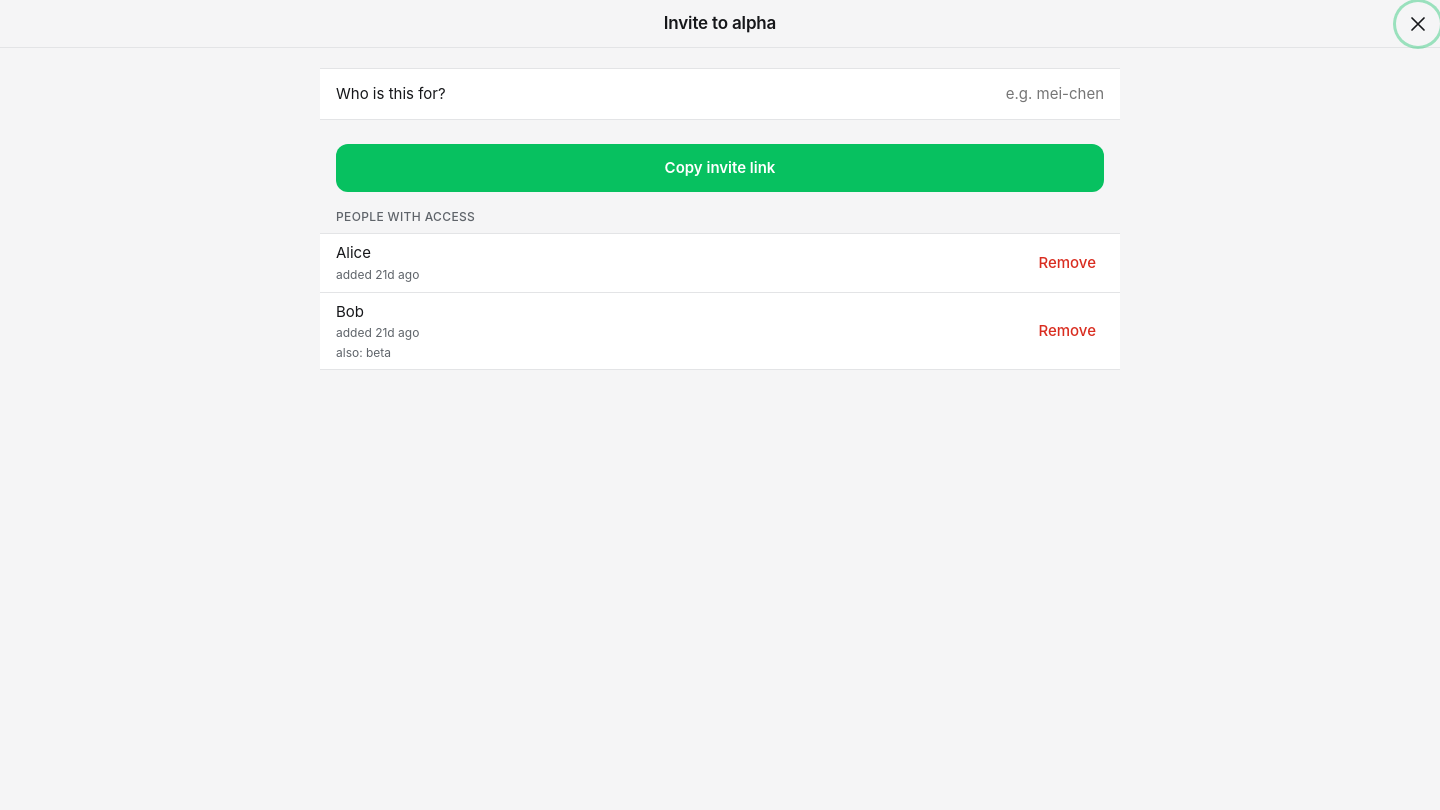
it: errors › a name the hub already has is reported as that, not as a network problem
Click the button "Copy invite link".
click(720, 168)  # box x1=336 y1=144 x2=1104 y2=192
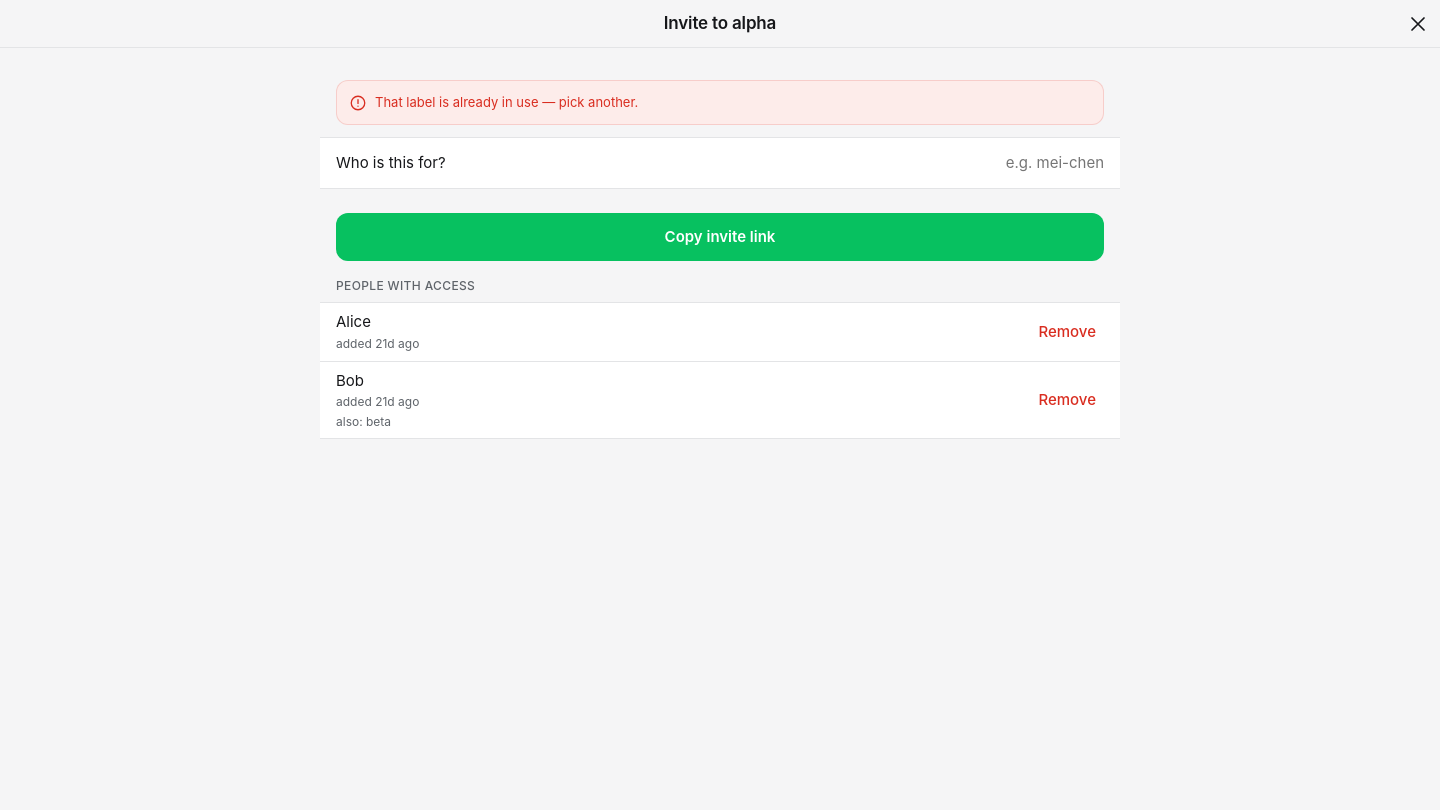
Result: the message reads "That label is already in use — pick another." at x1=375 y1=94 x2=638 y2=110
